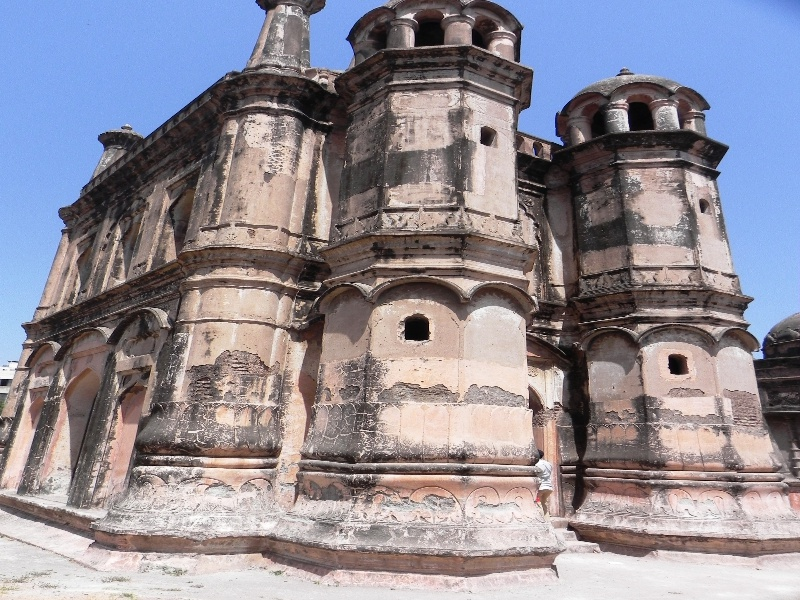Exposed Bricks: (186, 362, 223, 408), (735, 388, 761, 427)
Spalling: (624, 388, 730, 434), (381, 378, 462, 407), (464, 376, 530, 411), (223, 350, 279, 380)
